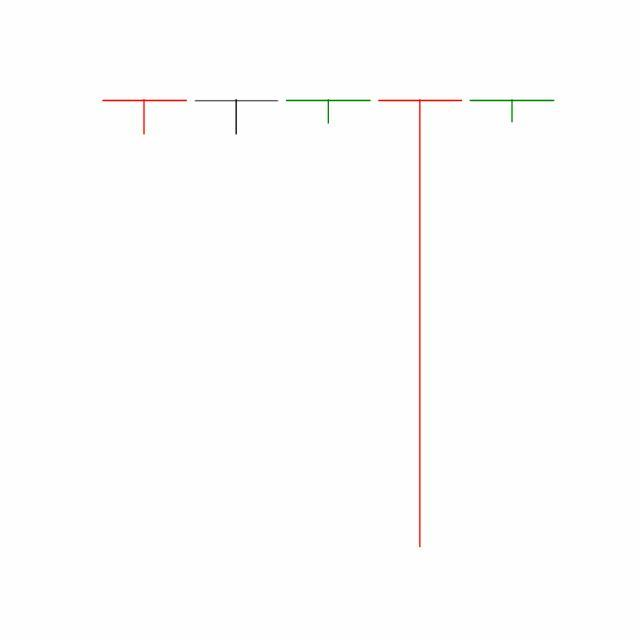Dragonfly Doji: (374, 95, 468, 553)
